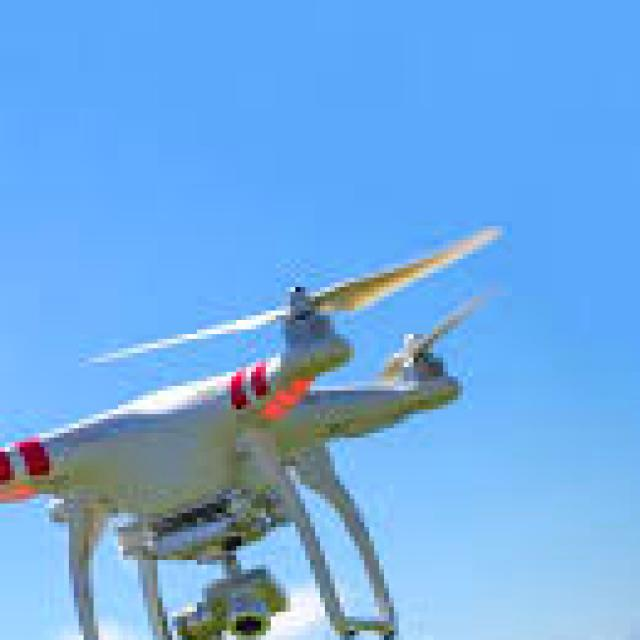drone: (0, 296, 542, 640)
